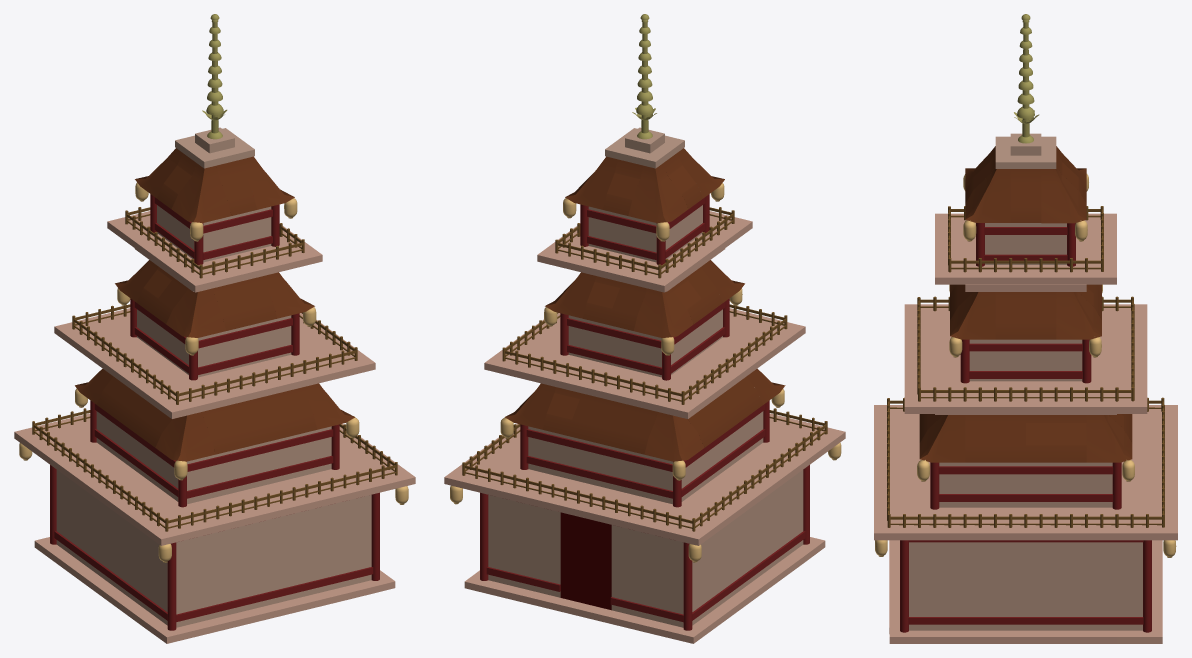
File: Castillo.fbx
The picture shows the model from 3 angles, left to right: view 1: azimuth 30°, elevation 25°; view 2: azimuth 150°, elevation 25°; view 3: azimuth 270°, elevation 25°; orthographic projection. The views are drawn at different scales.
Parts seen in each view (by area): view 1: polySurface330; view 2: polySurface330; view 3: polySurface330.
Part boxes in pixels (x1,y1,x2,y2): polySurface330: [14, 14, 415, 643]; polySurface330: [444, 14, 845, 643]; polySurface330: [874, 14, 1177, 643].
Size of the model in its own units: 80.3 by 167 by 80.29.
